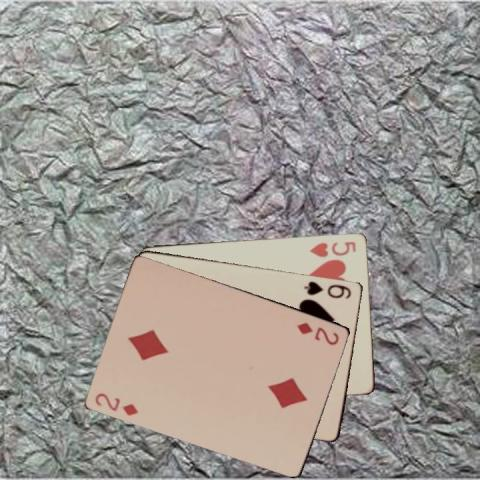2d: (92, 390, 140, 418), (294, 319, 341, 347)
5h: (307, 238, 358, 258)
6s: (301, 278, 354, 300)
